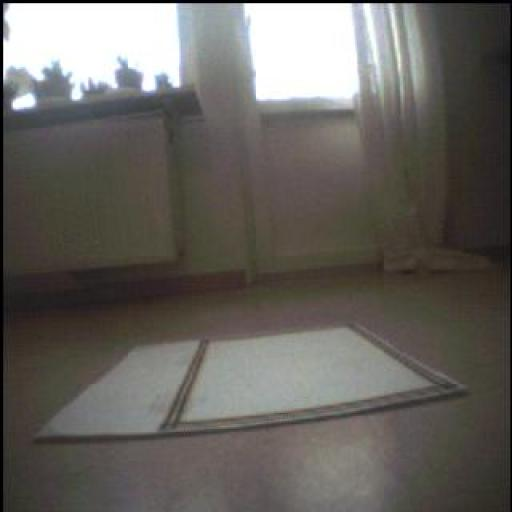Pad: (38, 326, 465, 441)
